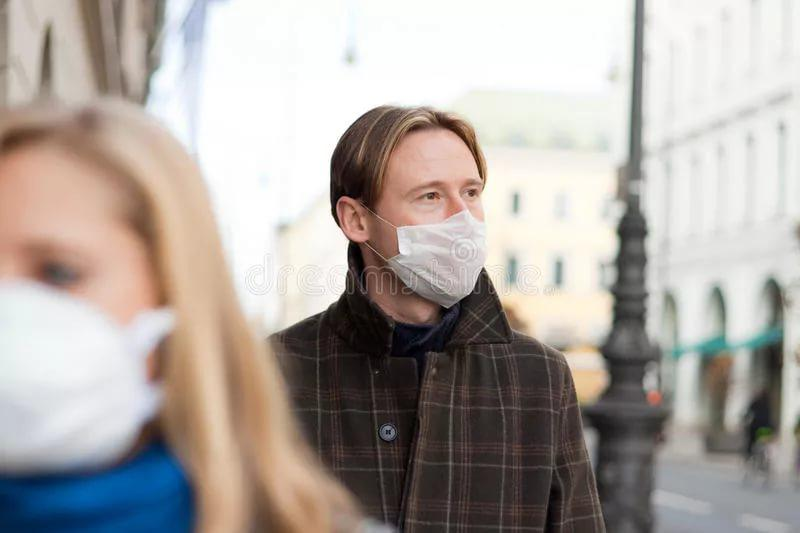mask: (378, 133, 491, 307)
